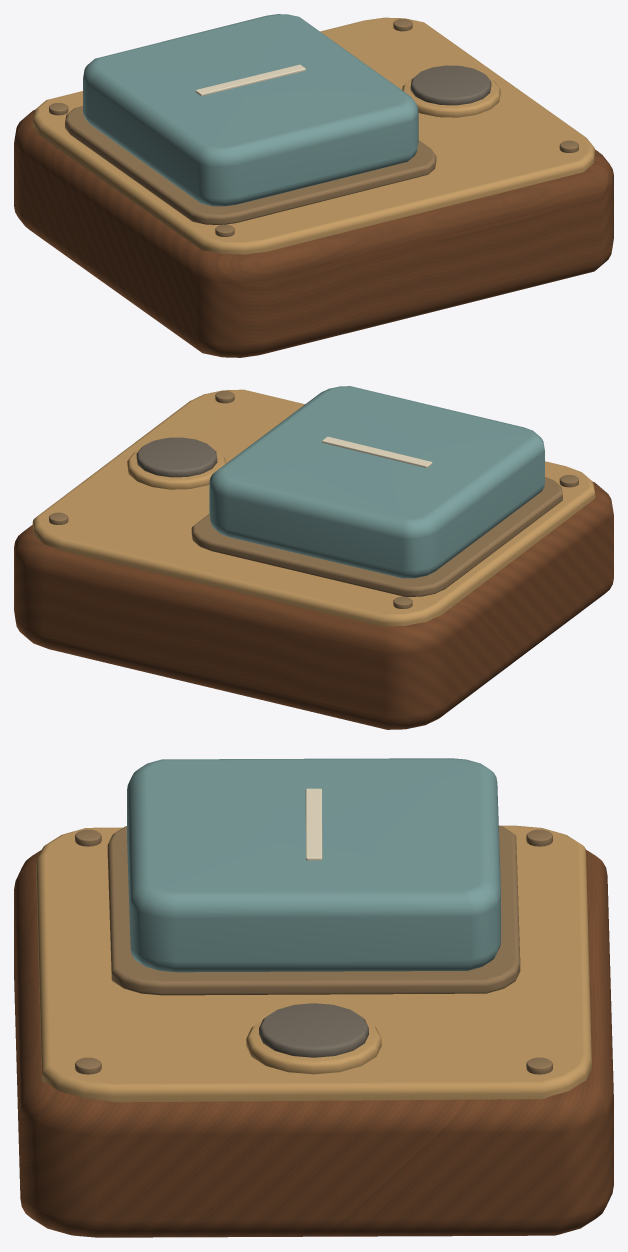
The model's file is wind_control_gate1.glb.
3 renders of one model, top to bottom at view 1: azimuth 30°, elevation 25°; view 2: azimuth 150°, elevation 25°; view 3: azimuth 270°, elevation 25°, orthographic. The views are drawn at different scales.
Parts seen in each view (by area): view 1: Oak, Teal_Cap, Brass, Patina, Lens, Ivory_Cap; view 2: Oak, Teal_Cap, Brass, Patina, Lens, Ivory_Cap; view 3: Oak, Teal_Cap, Brass, Patina, Lens, Ivory_Cap.
Part boxes in pixels (x1,y1,x2,y2): Oak: (14,110,613,357); Teal_Cap: (83,14,418,206); Brass: (32,17,595,254); Patina: (49,18,578,236); Lens: (410,65,491,105); Ivory_Cap: (195,64,305,95); Oak: (14,482,613,729); Teal_Cap: (209,386,544,578); Brass: (32,389,595,626); Patina: (49,390,578,608); Lens: (136,437,217,477); Ivory_Cap: (322,436,432,467); Oak: (14,849,613,1237); Teal_Cap: (127,758,500,972); Brass: (36,825,591,1102); Patina: (75,825,552,1074); Lens: (259,1003,368,1057); Ivory_Cap: (305,788,322,860).
Bounding box in the file's own units: 0.121 × 0.0485 × 0.109.
Materials: 6 (1 with a texture image).
